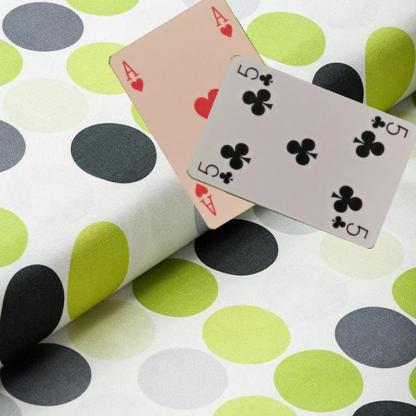5c: (367, 112, 410, 140), (194, 158, 234, 186)
Ah: (119, 57, 145, 94)
